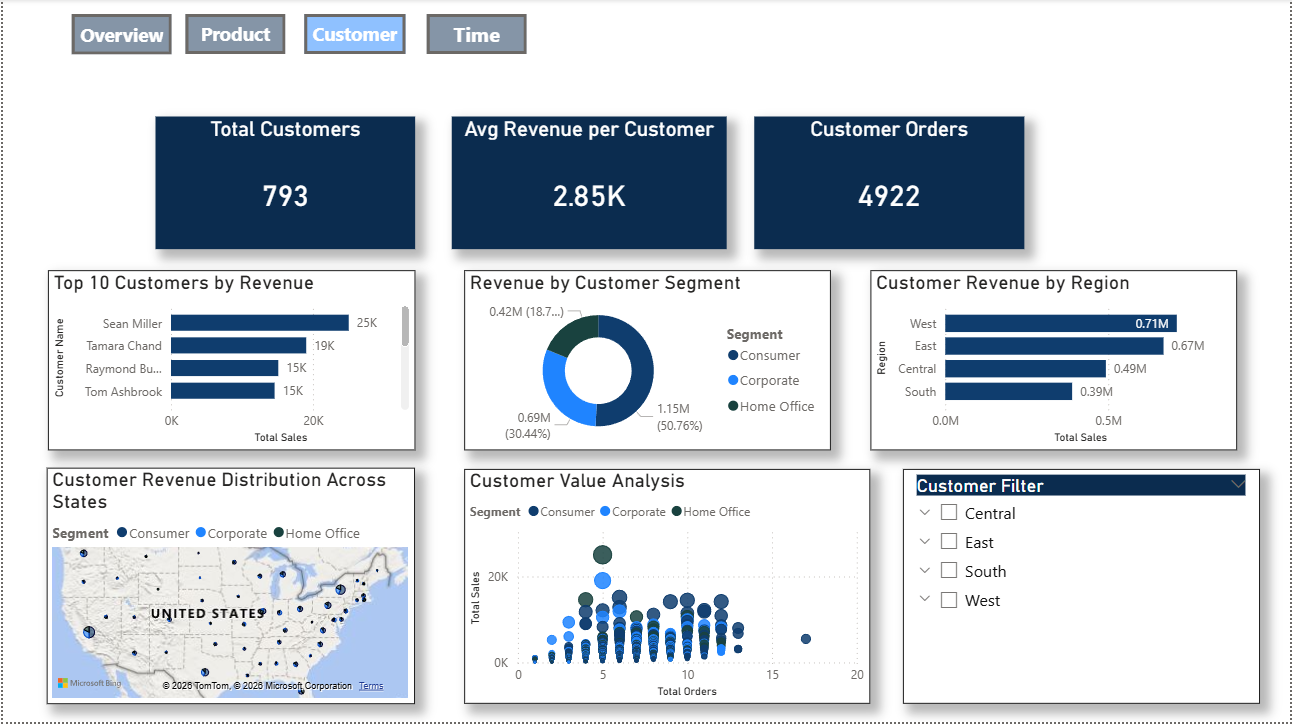

What the dashboard file says about the page in this screenshot:
{"tool":"powerbi","page":{"name":"Customer Analysis","canvas":[1280,720],"ordinal":2},"visuals":[{"type":"card","title":"Total Customers","fields":{"Values":["FactSales.Total Customers"]},"box":[151.8,116.9,258.7,131.9],"z":0},{"type":"card","title":"Avg Revenue per Customer","fields":{"Values":["FactSales.Avg Revenue per Customer"]},"box":[446.6,116.9,273.7,131.9],"z":1},{"type":"card","title":"Customer Orders","fields":{"Values":["FactSales.Total Orders"]},"box":[747.6,116.9,268.7,131.9],"z":2},{"type":"barChart","title":"Top 10 Customers by Revenue","fields":{"Category":["FactSales.Customer Name"],"Y":["FactSales.Total Sales"]},"box":[44.8,269.9,365.7,179.1],"z":3},{"type":"donutChart","title":"Revenue by Customer Segment","fields":{"Category":["FactSales.Segment"],"Y":["FactSales.Total Sales"]},"box":[459,269.9,364.5,179.1],"z":4},{"type":"barChart","title":"Customer Revenue by Region","fields":{"Category":["FactSales.Region"],"Y":["FactSales.Total Sales"]},"box":[863.3,269.9,364.5,179.1],"z":5},{"type":"map","title":"Customer Revenue Distribution Across States","fields":{"Category":["FactSales.State"],"Series":["FactSales.Segment"],"Size":["FactSales.Total Sales"]},"box":[43.3,466,366.5,235.2],"z":6},{"type":"scatterChart","title":"Customer Value Analysis","fields":{"Category":["FactSales.Customer Name"],"Series":["FactSales.Segment"],"Size":["FactSales.Total Sales"],"X":["FactSales.Total Orders"],"Y":["FactSales.Total Sales"]},"box":[458.8,467.5,404,233.7],"z":7},{"type":"slicer","fields":{"Values":["FactSales.Region","FactSales.Segment","FactSales.Country"]},"box":[896,467.5,354.9,233.7],"z":8},{"type":"actionButton","box":[421.7,14.9,99.5,39.8],"z":9},{"type":"actionButton","title":"Product","box":[181.6,14.9,99.5,39.8],"z":10},{"type":"actionButton","box":[299.8,14.9,100.8,39.8],"z":11},{"type":"actionButton","box":[67.8,14.4,99.6,40.4],"z":12}]}

Visuals, with their boxes in screenshot pixels (x1, y1, x2, y2), scaled from the page's 1280x720 canvas onto the 1292x724 screenshot:
"Total Customers" card: <bbox>153, 118, 414, 250</bbox>
"Avg Revenue per Customer" card: <bbox>451, 118, 727, 250</bbox>
"Customer Orders" card: <bbox>755, 118, 1026, 250</bbox>
"Top 10 Customers by Revenue" barChart: <bbox>45, 271, 414, 451</bbox>
"Revenue by Customer Segment" donutChart: <bbox>463, 271, 831, 451</bbox>
"Customer Revenue by Region" barChart: <bbox>871, 271, 1239, 451</bbox>
"Customer Revenue Distribution Across States" map: <bbox>44, 469, 414, 705</bbox>
"Customer Value Analysis" scatterChart: <bbox>463, 470, 871, 705</bbox>
slicer - FactSales.Region x FactSales.Segment: <bbox>904, 470, 1263, 705</bbox>
actionButton: <bbox>426, 15, 526, 55</bbox>
"Product" actionButton: <bbox>183, 15, 284, 55</bbox>
actionButton: <bbox>303, 15, 404, 55</bbox>
actionButton: <bbox>68, 14, 169, 55</bbox>
